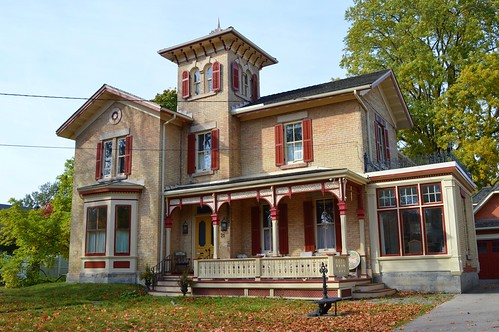high: (54, 22, 495, 305)
